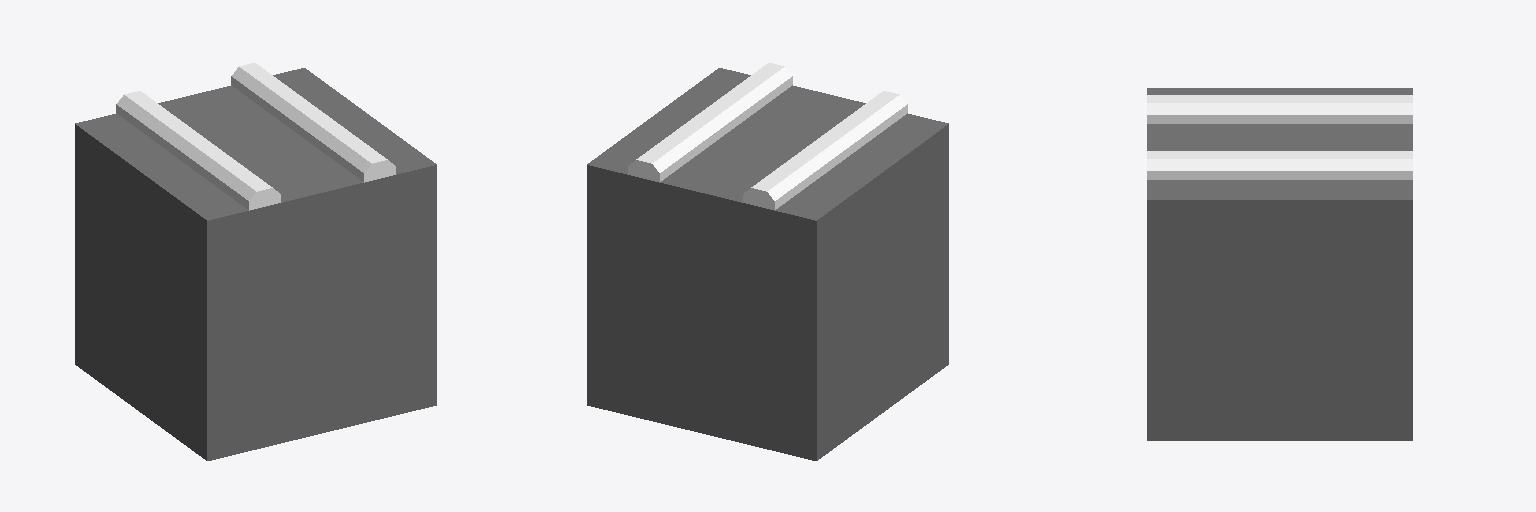
The model's file is StraightBlock.obj.
The picture shows the model from 3 angles: view 1: azimuth 30°, elevation 25°; view 2: azimuth 150°, elevation 25°; view 3: azimuth 270°, elevation 25°; orthographic projection.
Visible parts, largest first — view 1: polySurface6; view 2: polySurface6; view 3: polySurface6.
Part boxes in pixels (x1,y1,x2,y2): polySurface6: (75, 63, 436, 460); polySurface6: (587, 63, 948, 460); polySurface6: (1147, 88, 1412, 440).
Size of the model in its own units: 1 by 1.07 by 1.